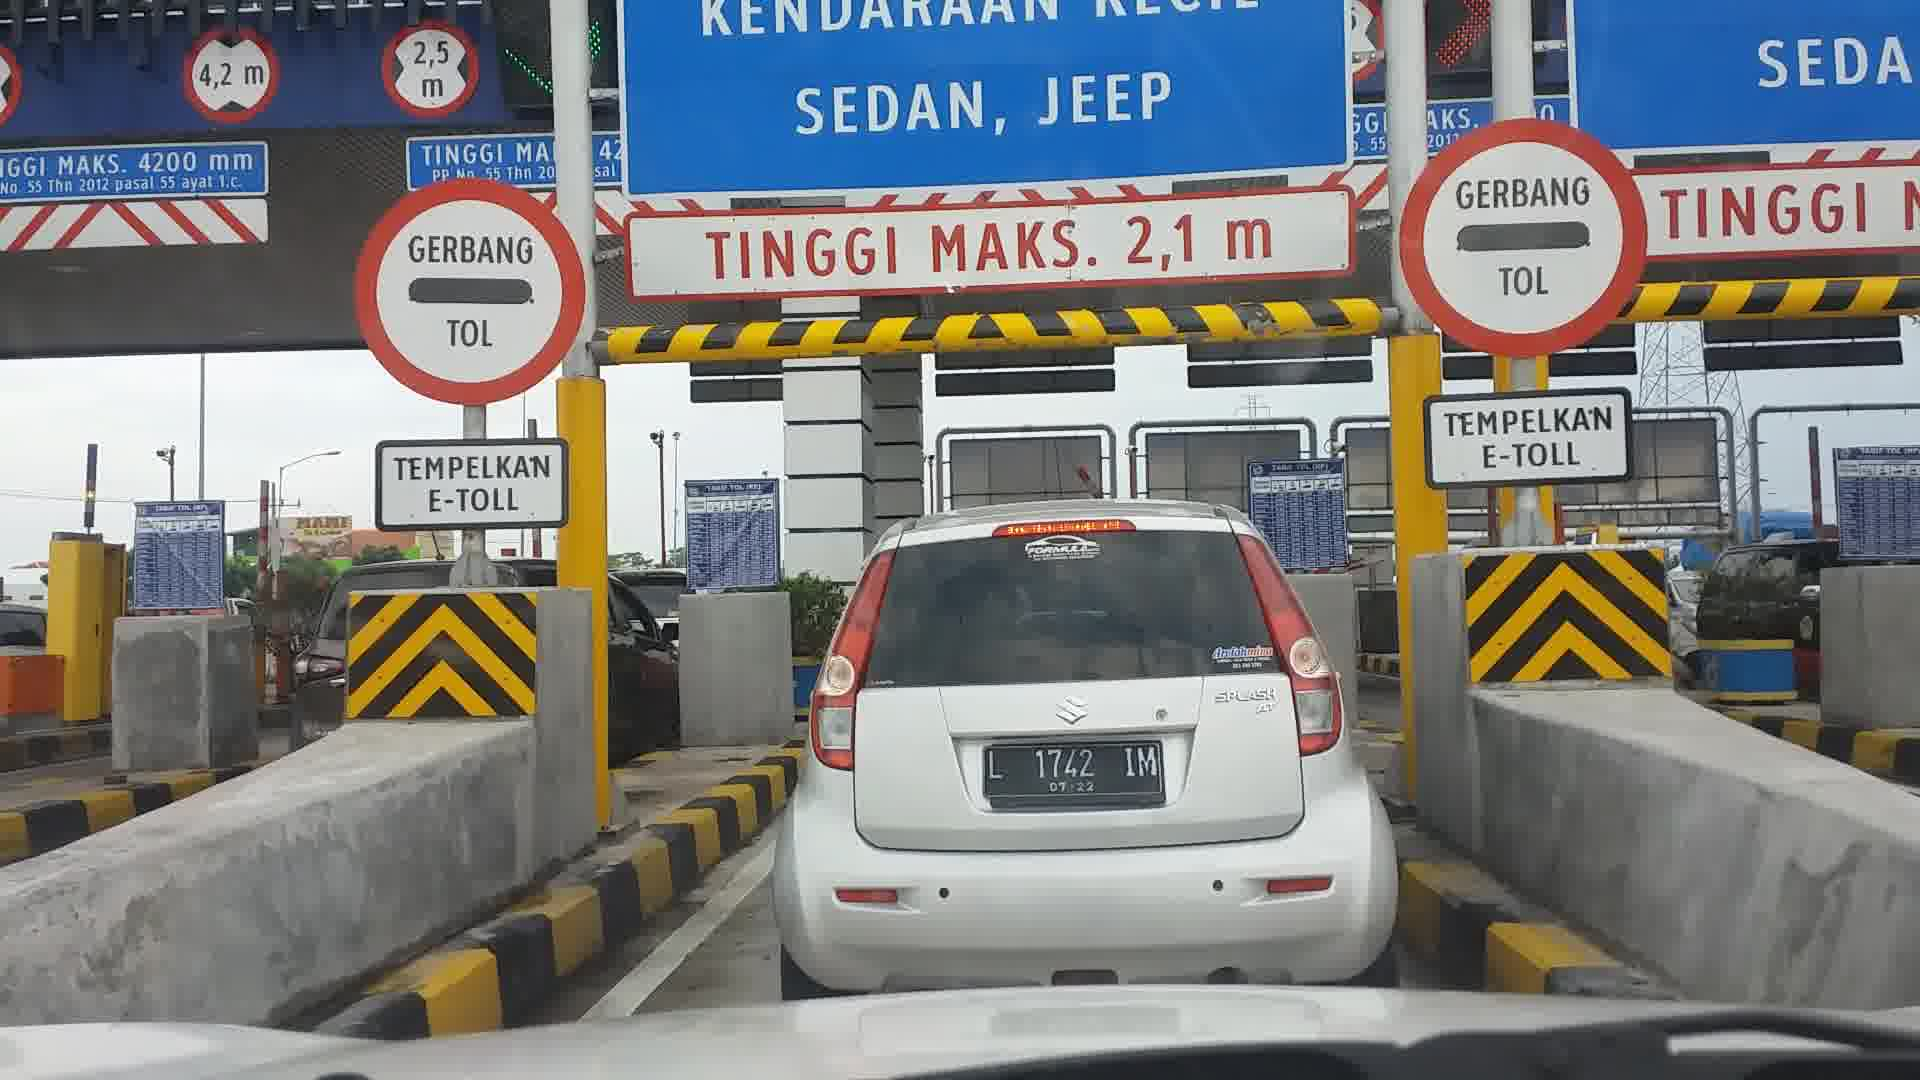plate_positive: (982, 741, 1166, 811)
